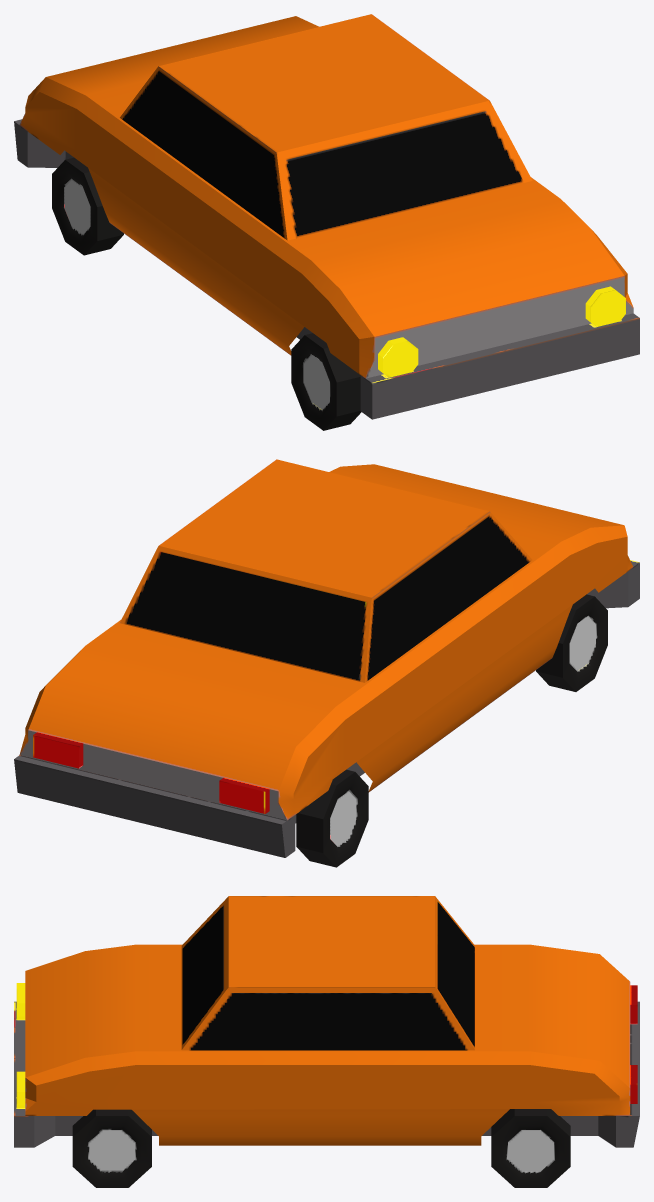
Rendered from Orange car.fbx.
3 renders of one model, top to bottom at view 1: azimuth 30°, elevation 25°; view 2: azimuth 150°, elevation 25°; view 3: azimuth 270°, elevation 25°, orthographic. The views are drawn at different scales.
Parts seen in each view (by area): view 1: Orange car; view 2: Orange car; view 3: Orange car.
Boxes of the visible parts, <box> form: Orange car: <box>14,14,639,430</box>; Orange car: <box>14,459,639,867</box>; Orange car: <box>14,896,639,1187</box>.
Bounding box in the file's own units: 172 × 131 × 393.
1 material, 1 textured.
